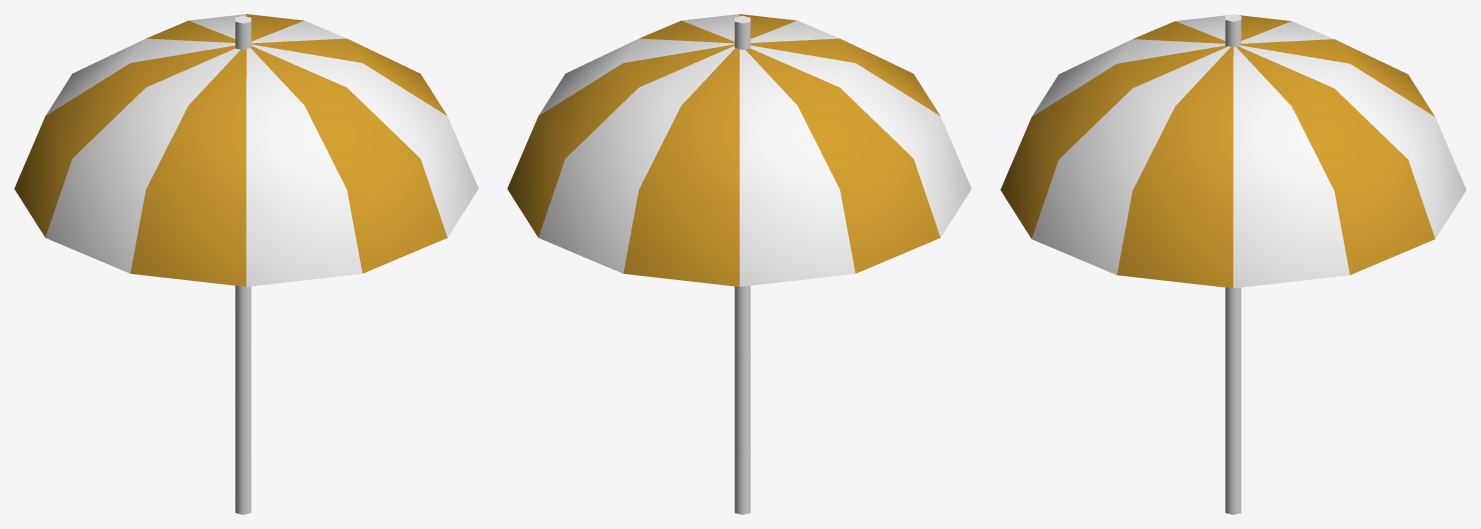
The model's file is sombrilla.FBX.
The picture shows the model from 3 angles, left to right: view 1: azimuth 30°, elevation 25°; view 2: azimuth 150°, elevation 25°; view 3: azimuth 270°, elevation 25°; orthographic projection.
Visible parts, largest first — view 1: Sphere001, Cylinder001; view 2: Sphere001, Cylinder001; view 3: Sphere001, Cylinder001.
Part boxes in pixels (x1,y1,x2,y2): Sphere001: (14, 14, 478, 286); Cylinder001: (235, 16, 251, 514); Sphere001: (507, 14, 971, 286); Cylinder001: (734, 15, 750, 514); Sphere001: (1000, 15, 1466, 288); Cylinder001: (1225, 14, 1241, 514).
Bounding box in the file's own units: 70.39 × 82.16 × 70.39.
